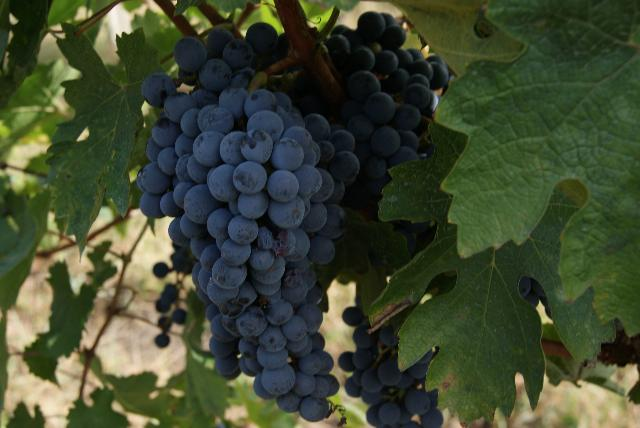grapes: (141, 81, 346, 421)
